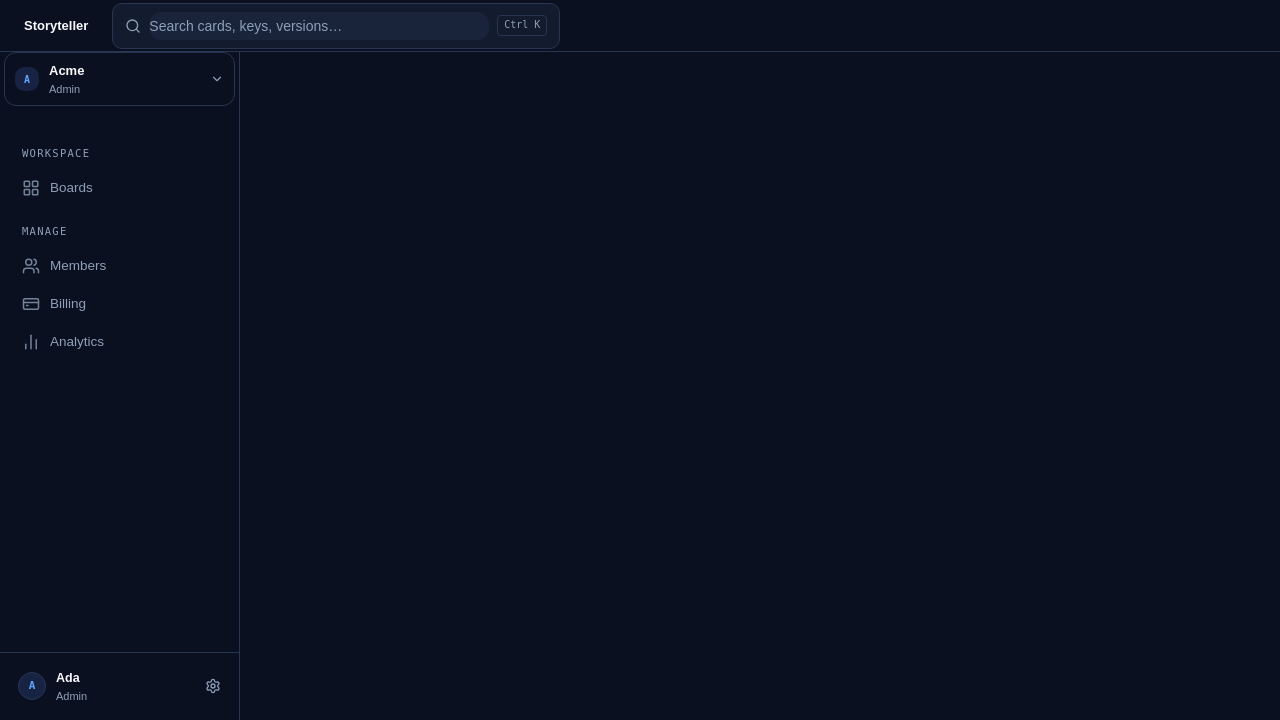
AppShell › renders the breadcrumb, org switcher, and a reachable sign-out control
The width and height of the screenshot is (1280, 720).
Check: the text "Storyteller" is shown once, box [24, 16, 88, 35]
Check: the text "Acme" is shown, box [49, 63, 84, 78]
Click the button "A Ada Admin" at (120,686), box [10, 663, 229, 710]
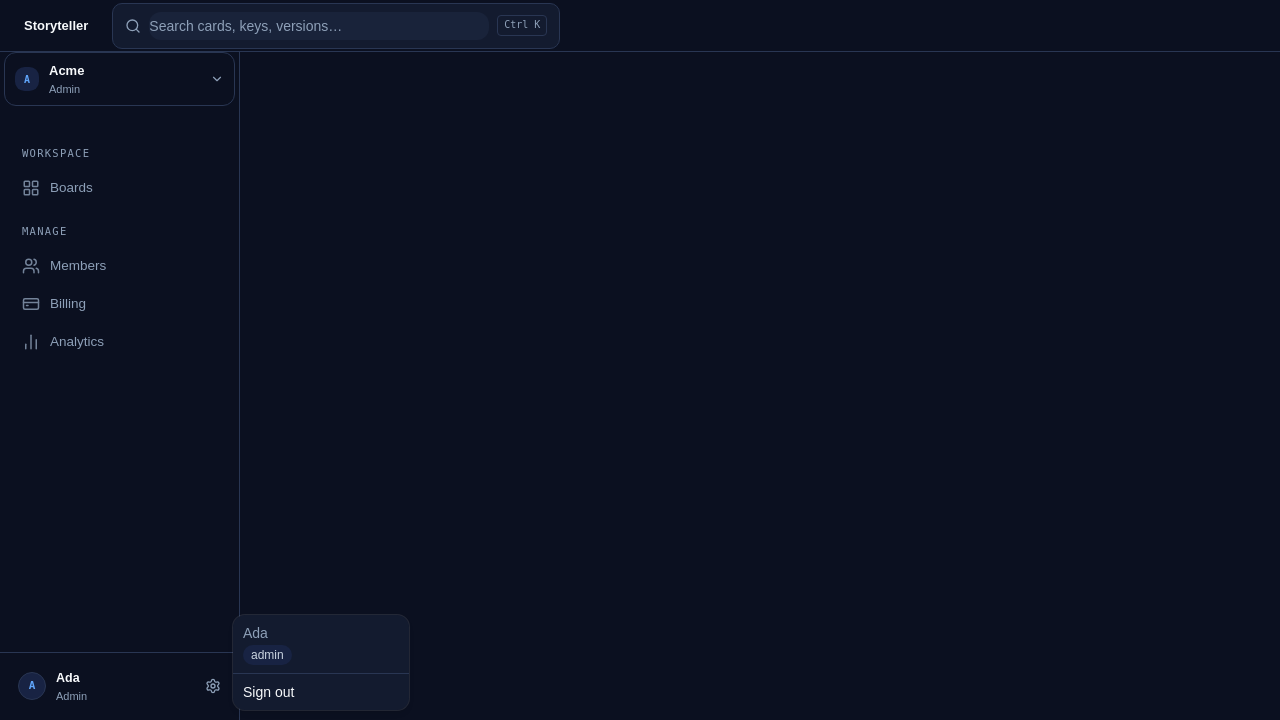
Check: the menu item "Sign out" is shown, box [243, 684, 294, 700]
